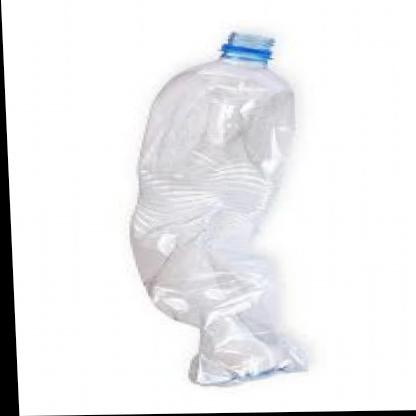trash: (131, 33, 306, 384)
